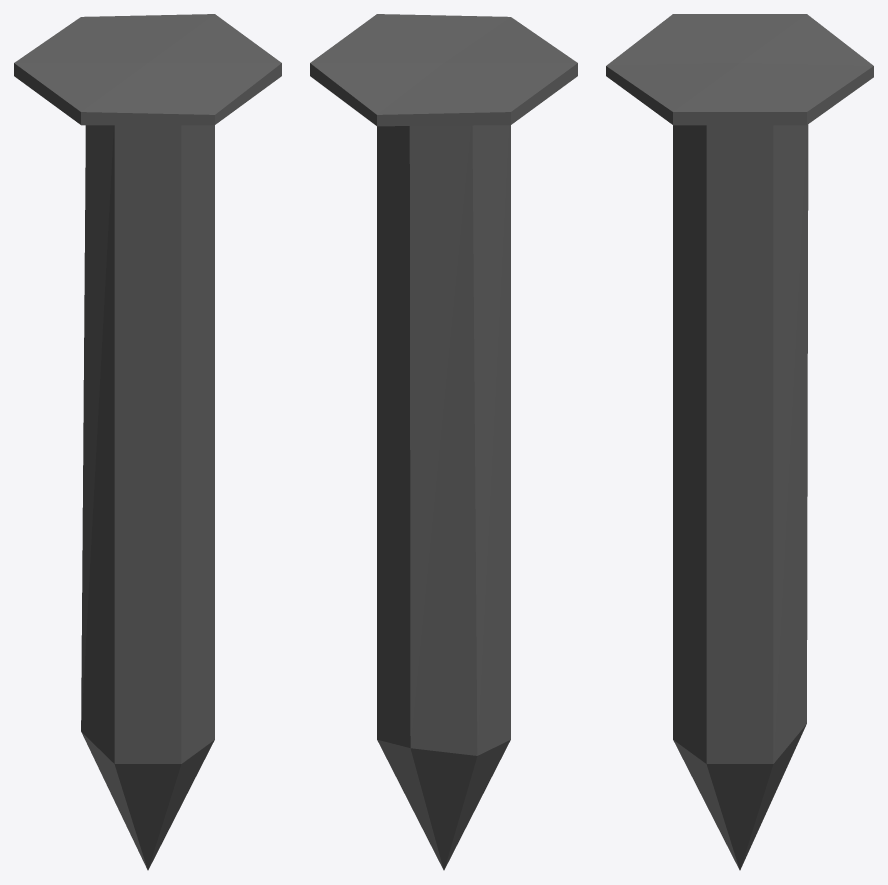
Rendered from nail_02.FBX.
3 renders of one model, left to right at view 1: azimuth 30°, elevation 25°; view 2: azimuth 150°, elevation 25°; view 3: azimuth 270°, elevation 25°, orthographic.
Visible parts, largest first — view 1: nail_low_poly_2; view 2: nail_low_poly_2; view 3: nail_low_poly_2.
Part boxes in pixels (box(x1,y1,x2,y2)): nail_low_poly_2: box(14, 14, 281, 870); nail_low_poly_2: box(310, 14, 577, 870); nail_low_poly_2: box(606, 14, 873, 870).
Size of the model in its own units: 12.6 by 48.43 by 14.55.
1 material, 1 textured.
